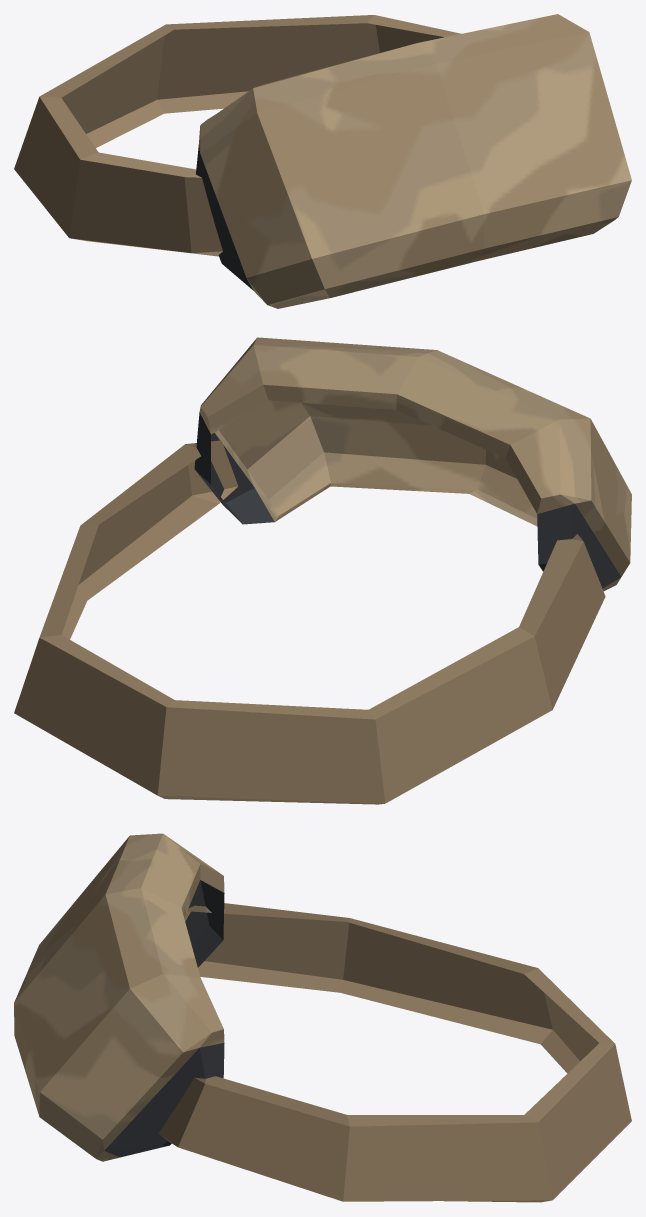
The model's file is SM_Chr_Attach_Helmet_01_Goggles_03.fbx.
The picture shows the model from 3 angles, top to bottom: view 1: azimuth 30°, elevation 25°; view 2: azimuth 150°, elevation 25°; view 3: azimuth 270°, elevation 25°; orthographic projection. The views are drawn at different scales.
Parts seen in each view (by area): view 1: SM_Chr_Attach_Helmet_01_Goggles_03; view 2: SM_Chr_Attach_Helmet_01_Goggles_03; view 3: SM_Chr_Attach_Helmet_01_Goggles_03.
Part boxes in pixels (<box>): SM_Chr_Attach_Helmet_01_Goggles_03: <box>14,14,631,308</box>; SM_Chr_Attach_Helmet_01_Goggles_03: <box>14,337,631,804</box>; SM_Chr_Attach_Helmet_01_Goggles_03: <box>14,833,631,1202</box>.
Size of the model in its own units: 30.96 by 15.7 by 36.44.
